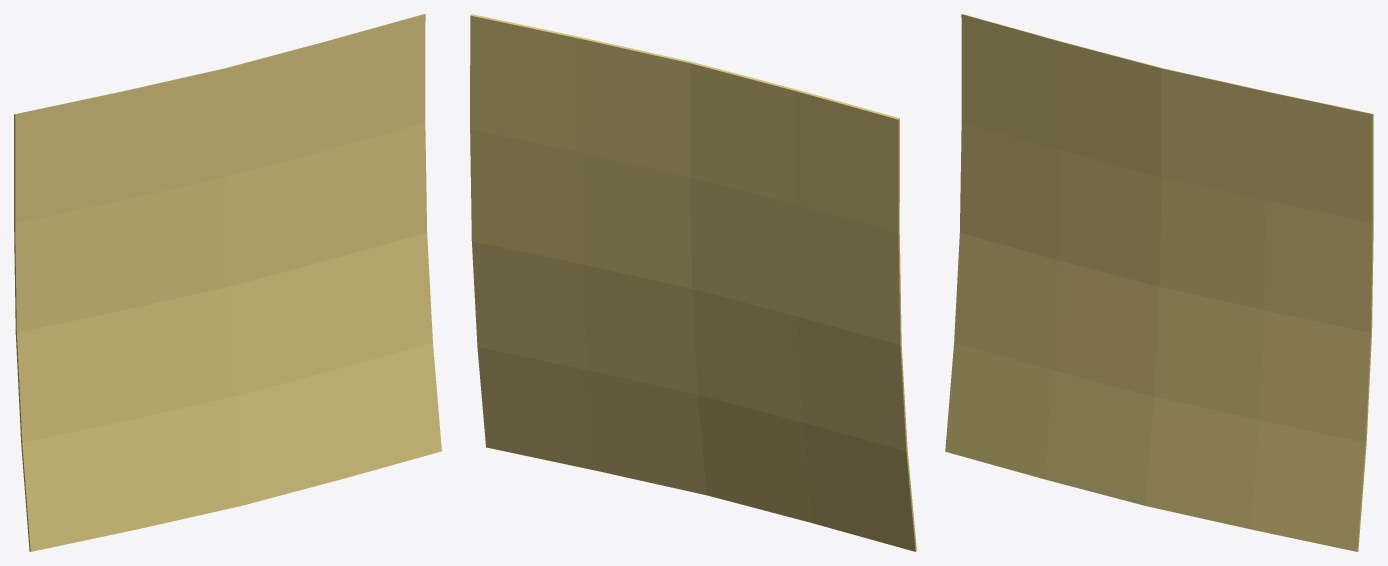
The model's file is lap2-2x.fbx.
The picture shows the model from 3 angles, left to right: view 1: azimuth 30°, elevation 25°; view 2: azimuth 150°, elevation 25°; view 3: azimuth 330°, elevation 25°; orthographic projection. The views are drawn at different scales.
Parts seen in each view (by area): view 1: Lap.001; view 2: Lap.001; view 3: Lap.001.
Boxes of the visible parts, x1=… form: Lap.001: x1=14, y1=14, x2=441, y2=551; Lap.001: x1=470, y1=14, x2=916, y2=551; Lap.001: x1=945, y1=14, x2=1373, y2=551.
Bounding box in the file's own units: 26.98 × 26.71 × 2.61.
